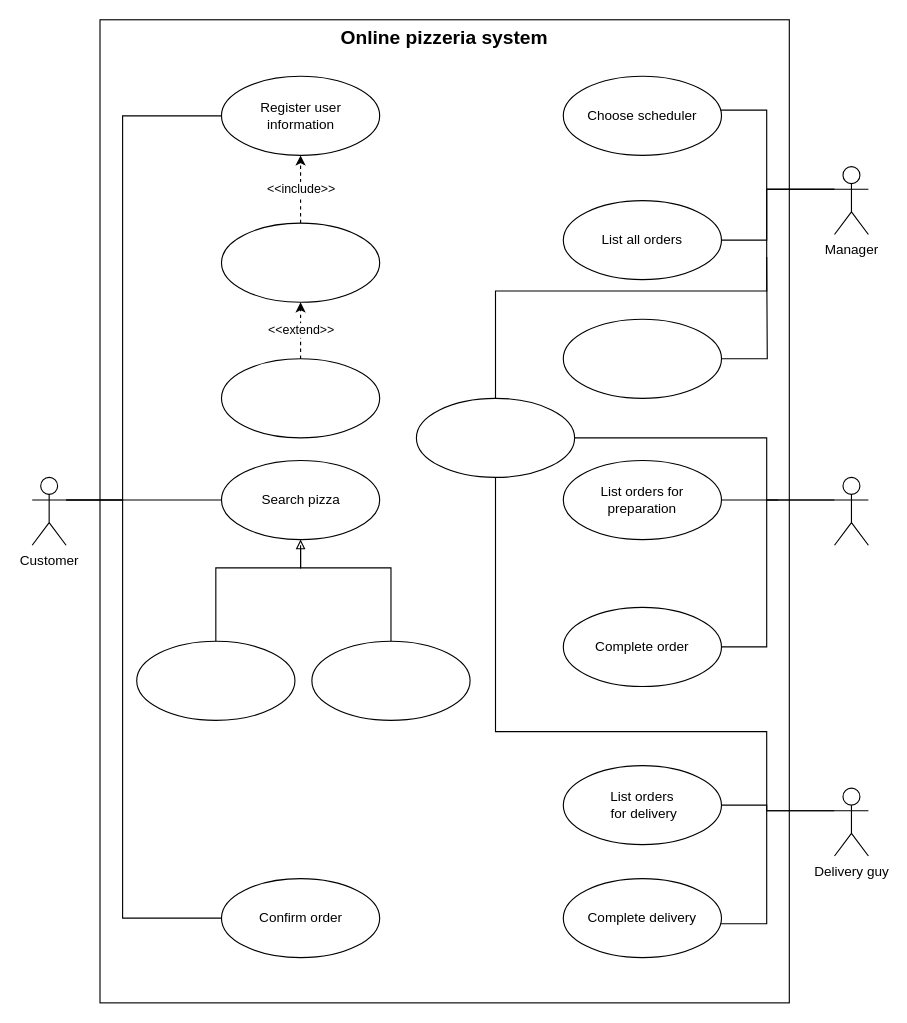
The diagram is 907 pixels wide and 1023 high, and some of its shapes have lost their labels. The shapes that lost their labels are listed below. From the top down, each one's centre as x and y in pixels, then its label:
[300,262]: Create order
[642,358]: Manage staff (add, list, delete)
[300,398]: Add pizzas to order
[495,437]: Staff login
[850,510]: Kitchen staff
[215,680]: Search by name
[390,680]: Search by ingredients
